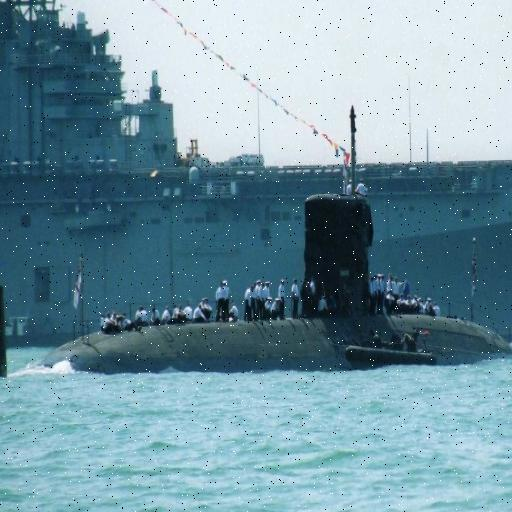submarine: (1, 100, 512, 382)
